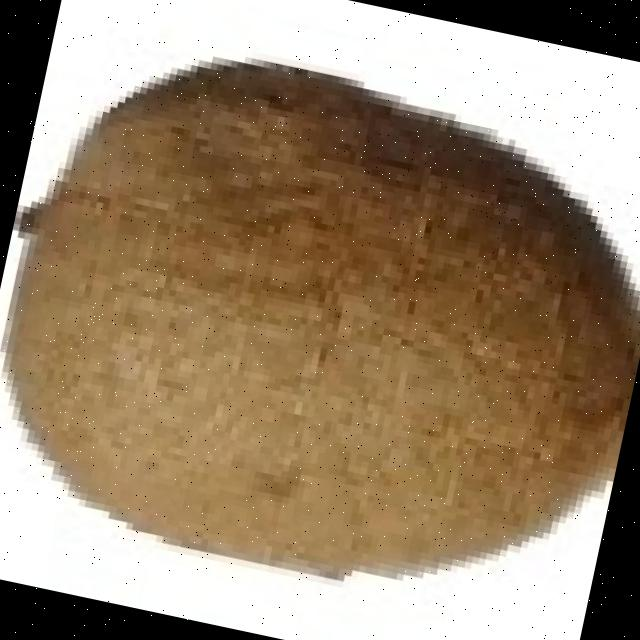kiwi: (2, 64, 637, 569)
